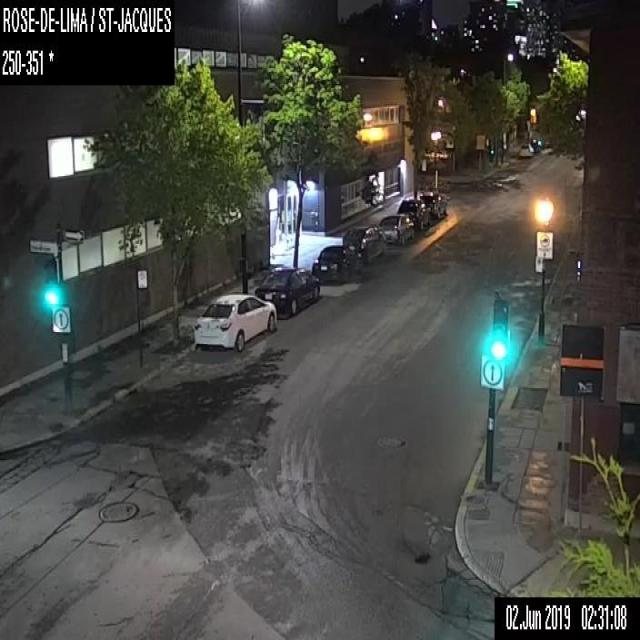vehicle: (192, 292, 275, 351), (255, 264, 320, 316), (312, 244, 366, 283), (342, 224, 387, 262), (397, 192, 431, 228), (378, 213, 414, 243), (421, 189, 447, 216), (515, 142, 533, 156), (530, 136, 540, 152)
